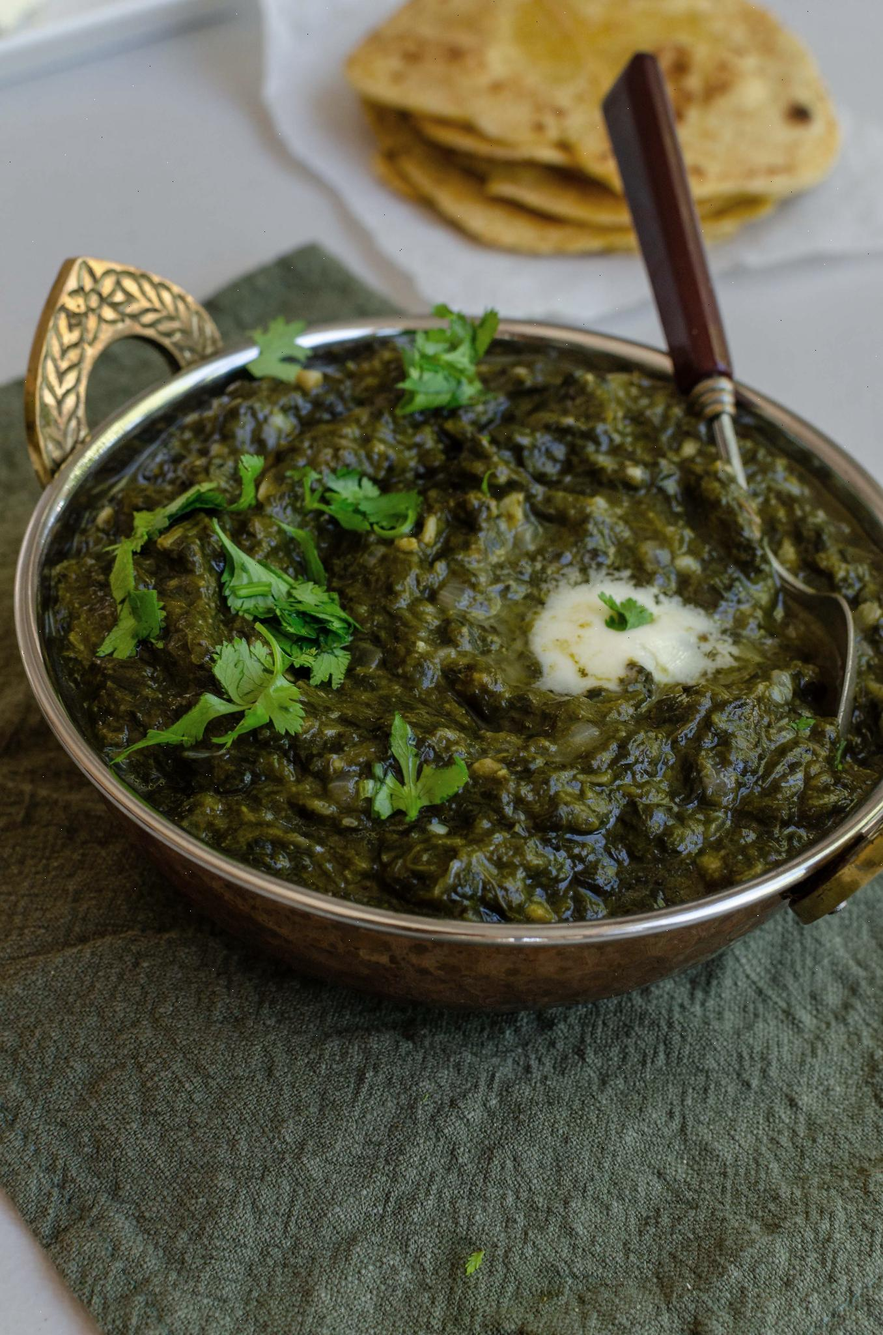saag: (49, 321, 883, 932)
